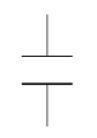Capacitor: (17, 35, 87, 100)
